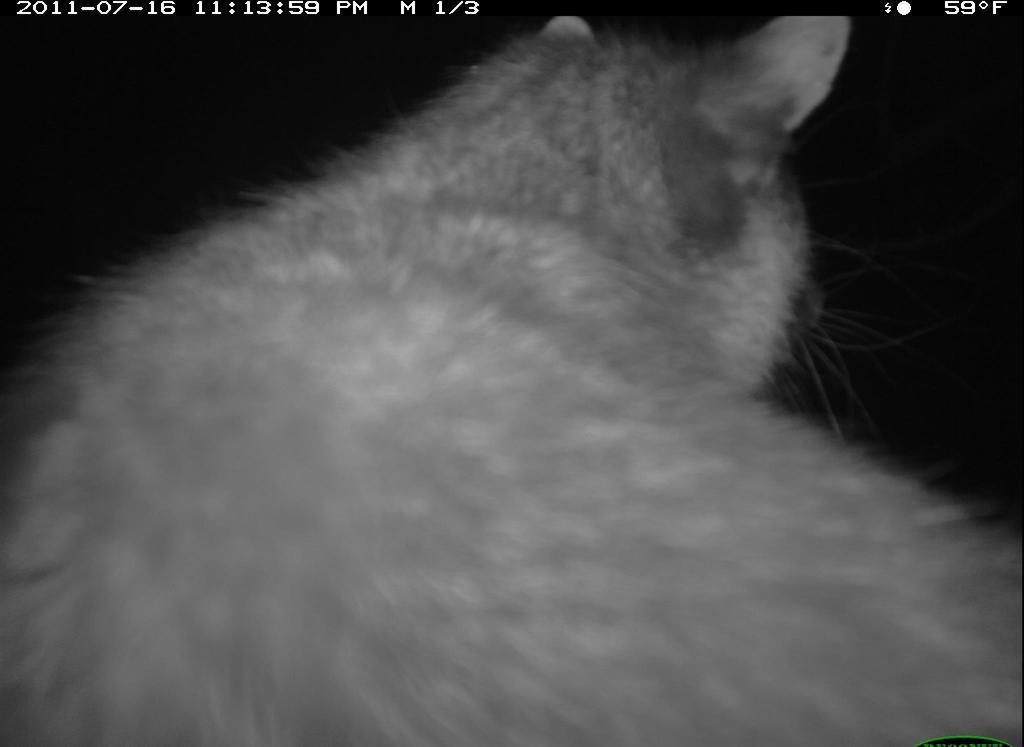raccoon: (7, 6, 1023, 742)
